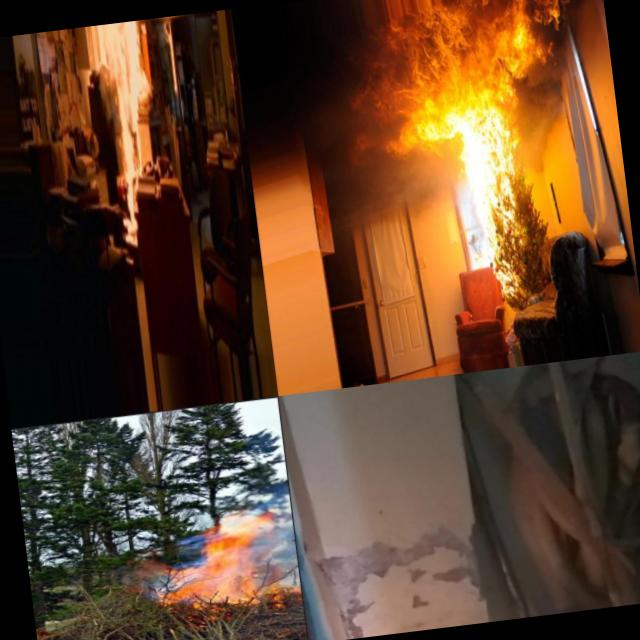fire: (333, 6, 518, 159), (92, 20, 164, 216), (458, 138, 537, 304), (164, 509, 274, 615), (500, 0, 575, 79)
smoke: (322, 146, 466, 228), (510, 73, 573, 173), (260, 486, 302, 587), (122, 558, 172, 600)
